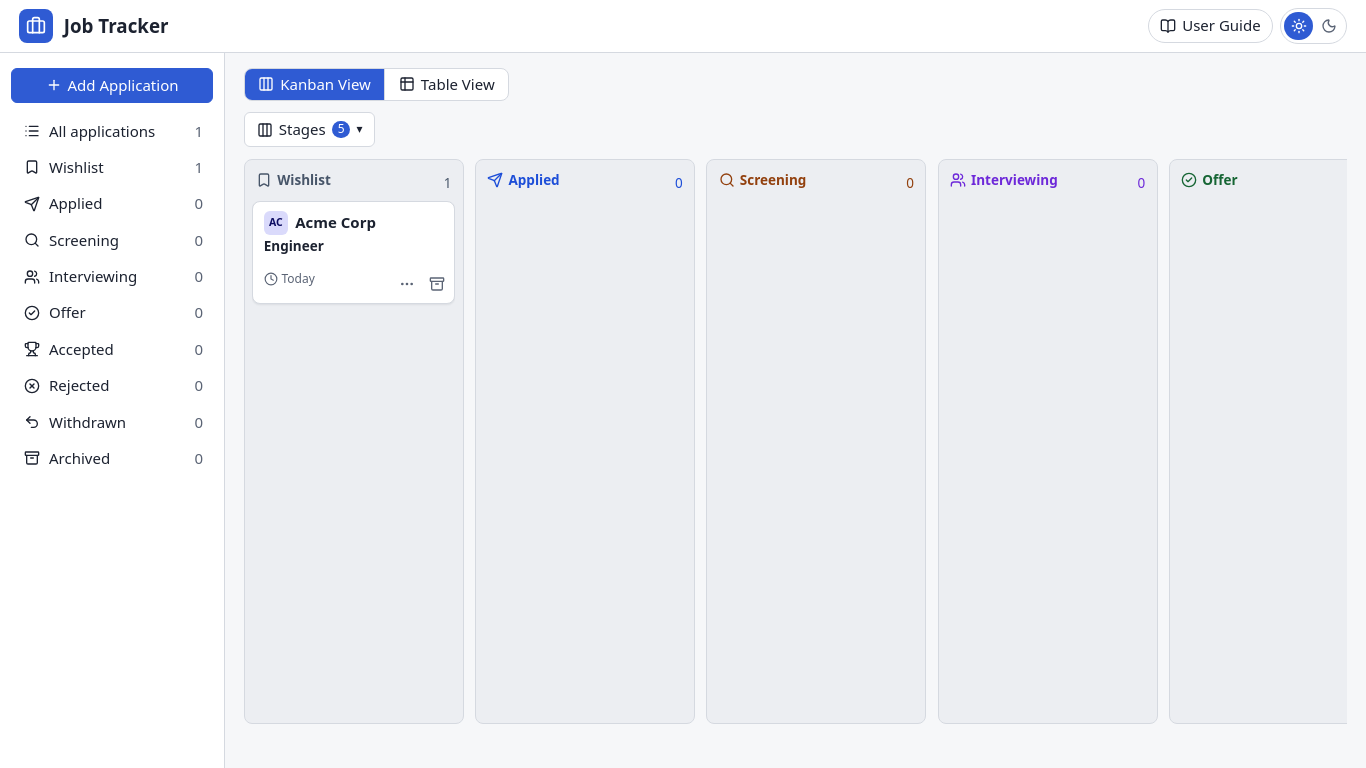
Test: job details section › asks before throwing away changes to job details only (AC-10)
Click the button "AC Acme Corp Engineer Today": (354, 252) [252, 201, 455, 304]
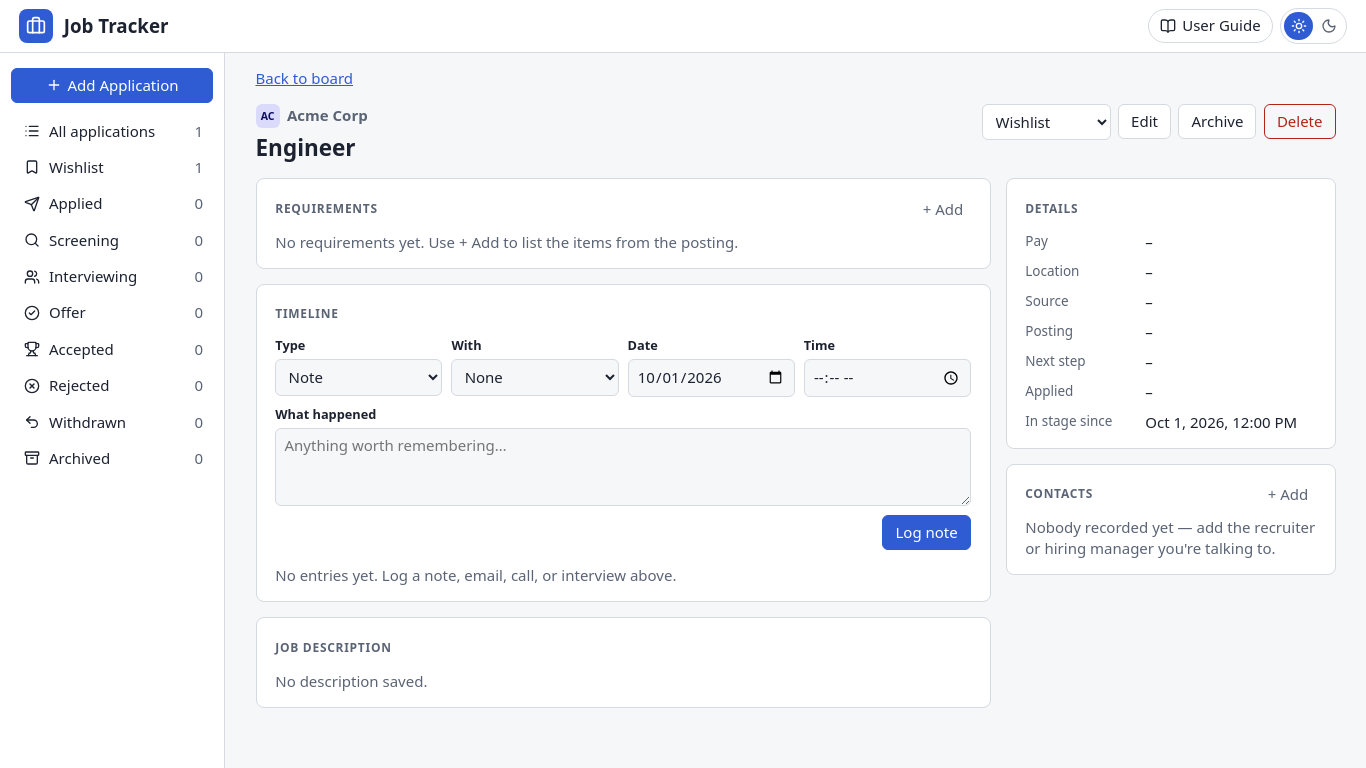
Click the button "Edit": (1145, 122) [1118, 104, 1171, 139]
(page scrolled)
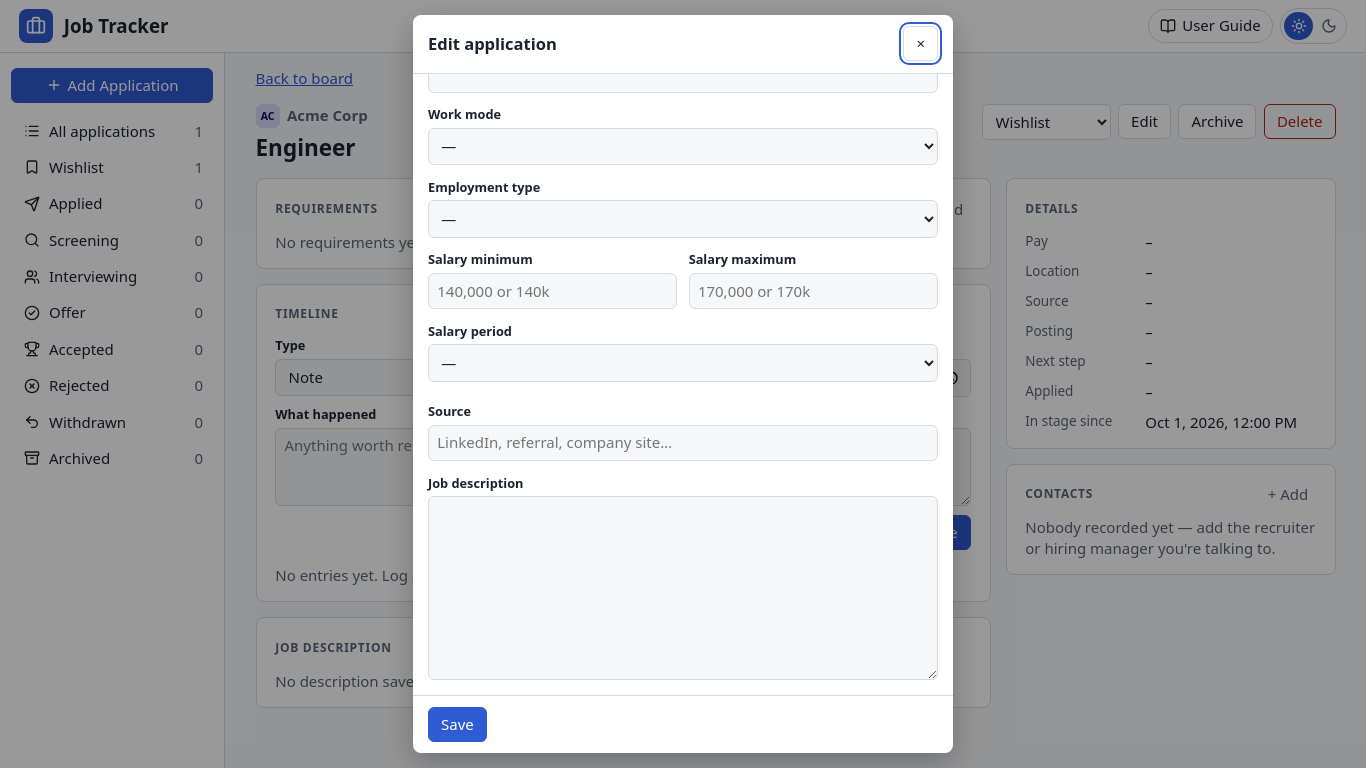
In the field labelled "Source": (683, 443) [428, 425, 938, 461], type "Referral"
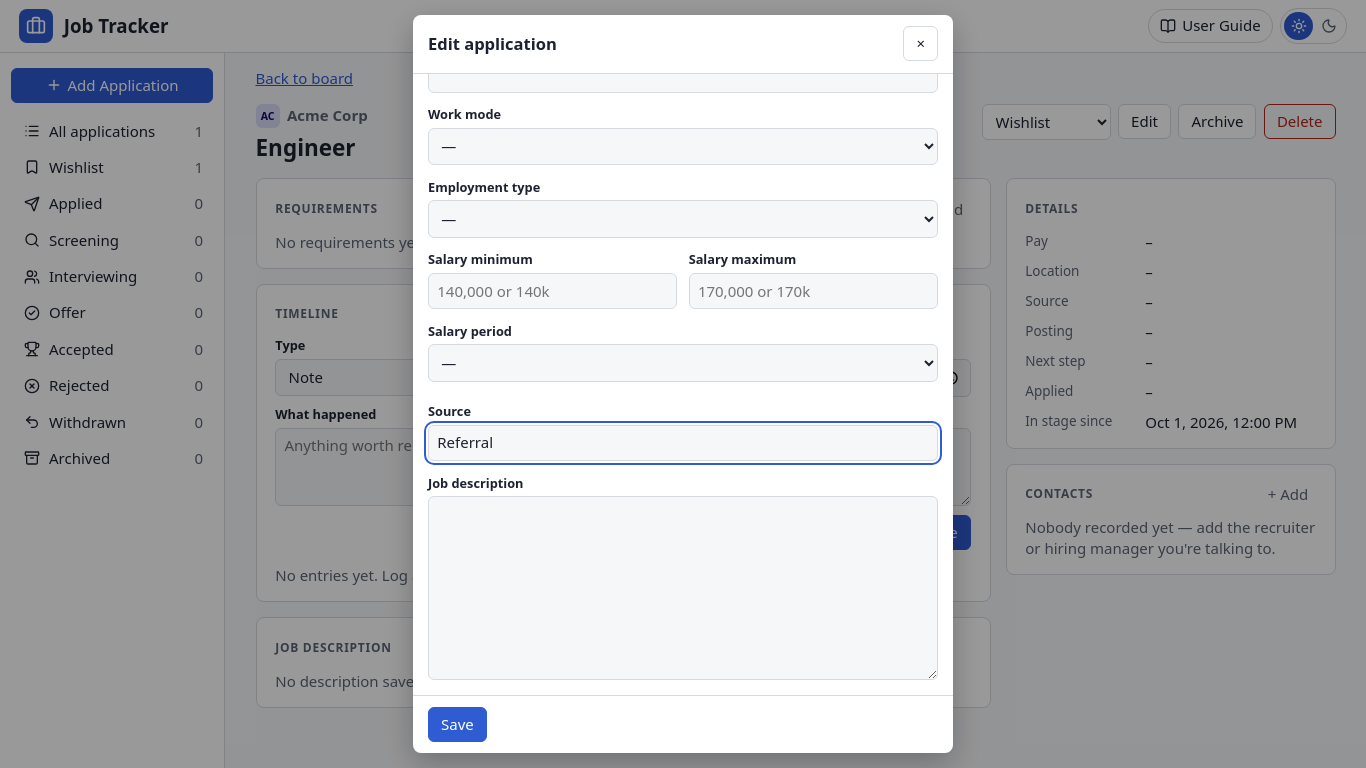
Click the button named "Close": (921, 44) [903, 26, 938, 61]
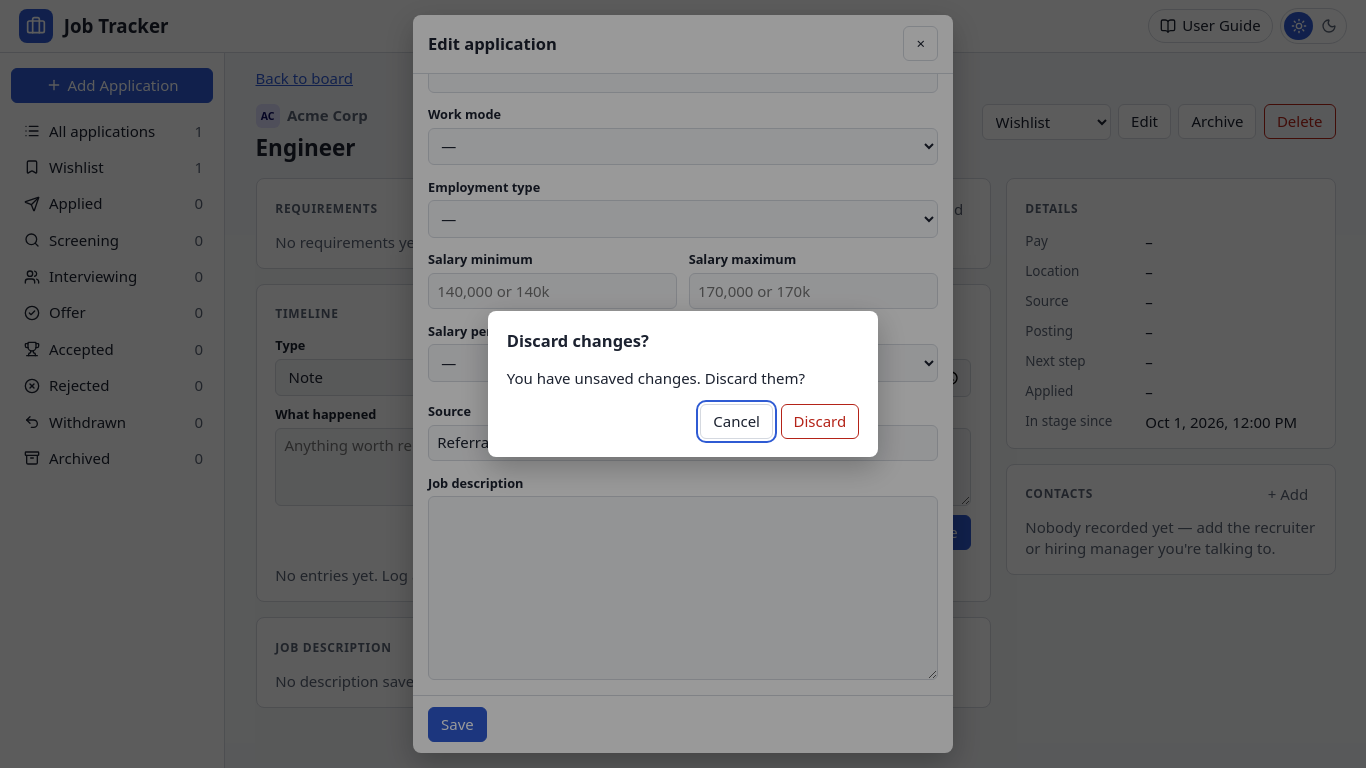
Now the dialog "Discard changes?" is shown, box [488, 311, 878, 457]
